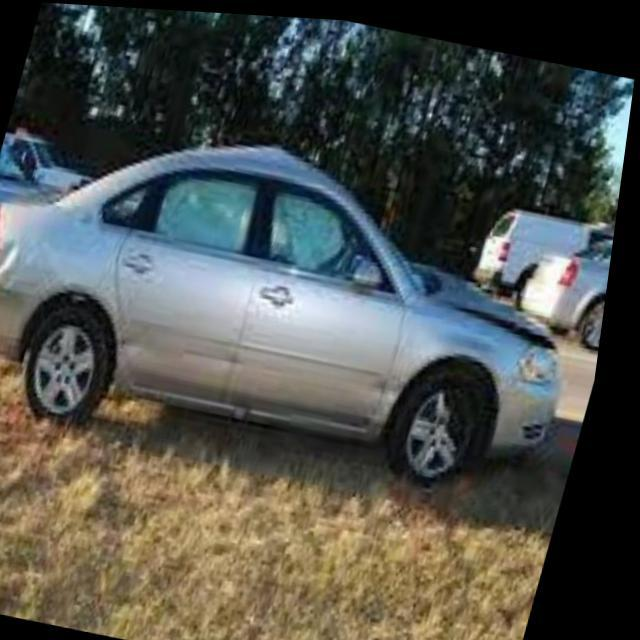dent: (0, 232, 34, 291)
dislocated part: (453, 289, 564, 348)
scratch: (122, 332, 415, 414)
